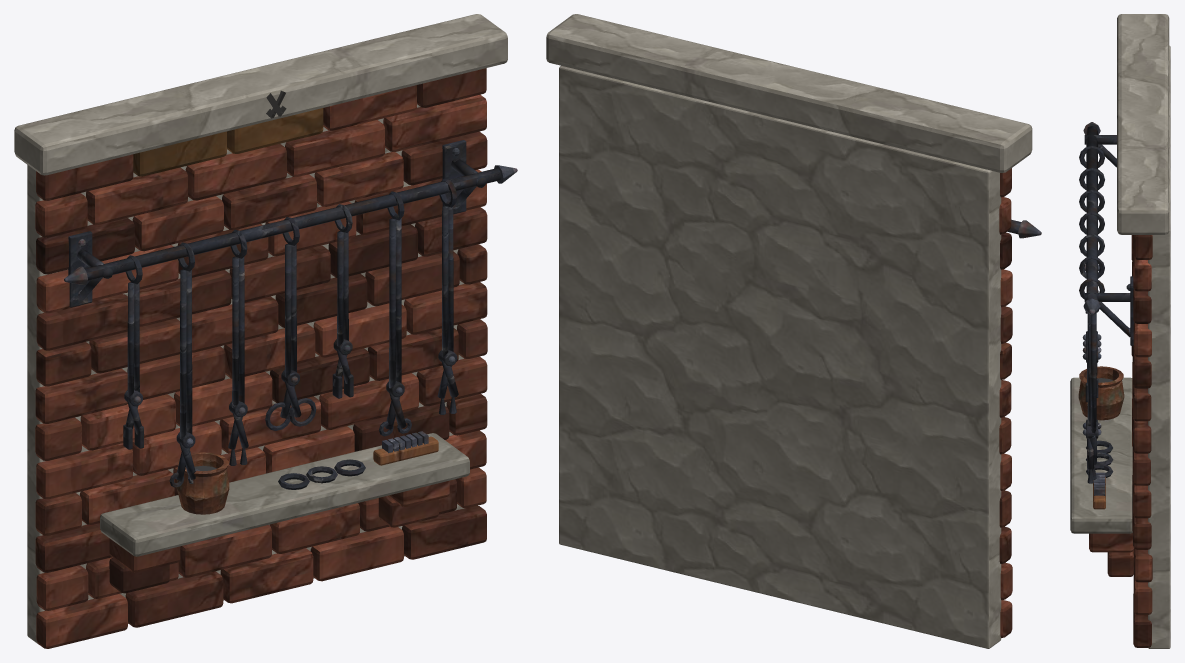
File: ef_tong_rack.glb
3 views of the same model, side by side, from view 1: azimuth 30°, elevation 25°; view 2: azimuth 150°, elevation 25°; view 3: azimuth 270°, elevation 25° (orthographic). The views are drawn at different scales.
Visible parts, largest first — view 1: model; view 2: model; view 3: model.
Boxes of the visible parts, x1=… form: model: x1=14, y1=14, x2=517, y2=648; model: x1=546, y1=14, x2=1041, y2=648; model: x1=1070, y1=14, x2=1170, y2=648.
Bounding box in the file's own units: 1.25 × 1.32 × 0.268.
14 materials, 12 textured.
